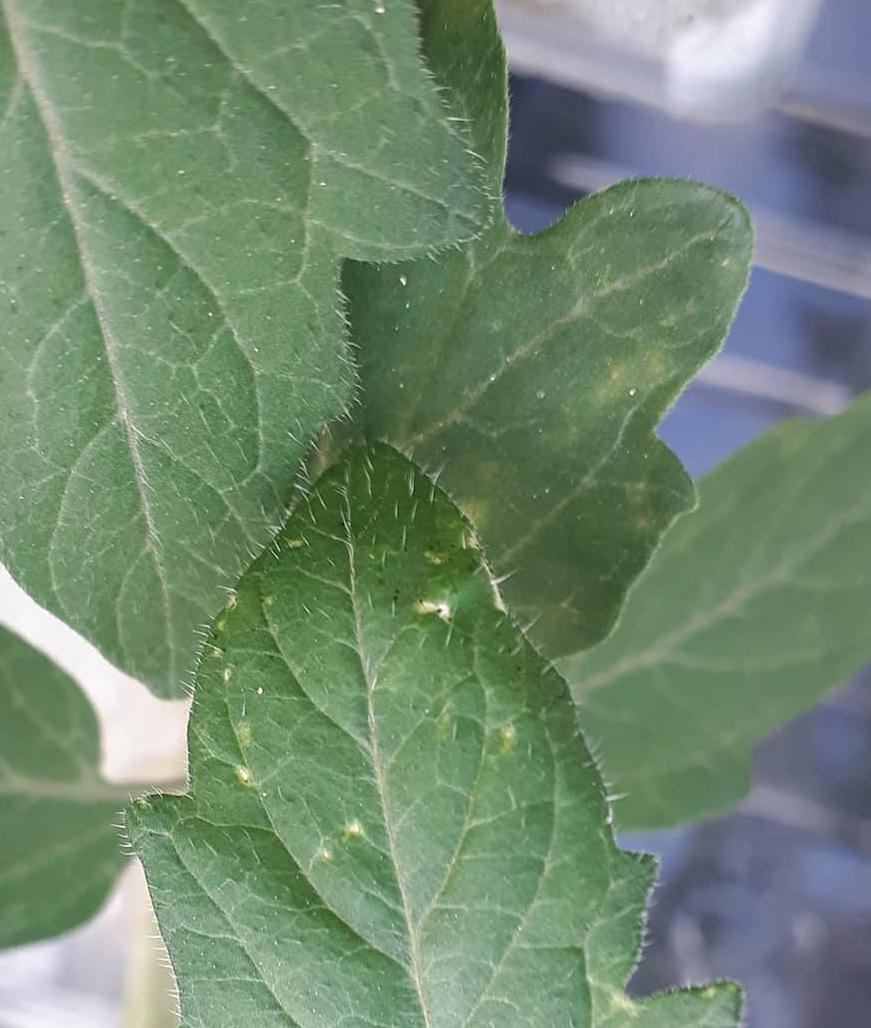Tomato mold leaf: (98, 420, 723, 1028), (0, 0, 488, 736)
